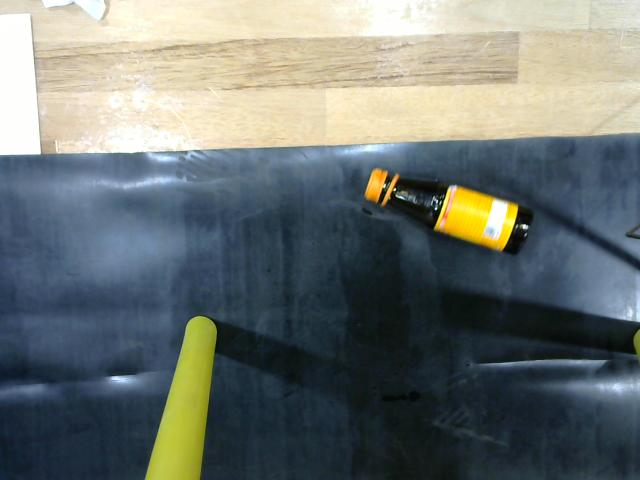glass: (363, 161, 536, 263)
